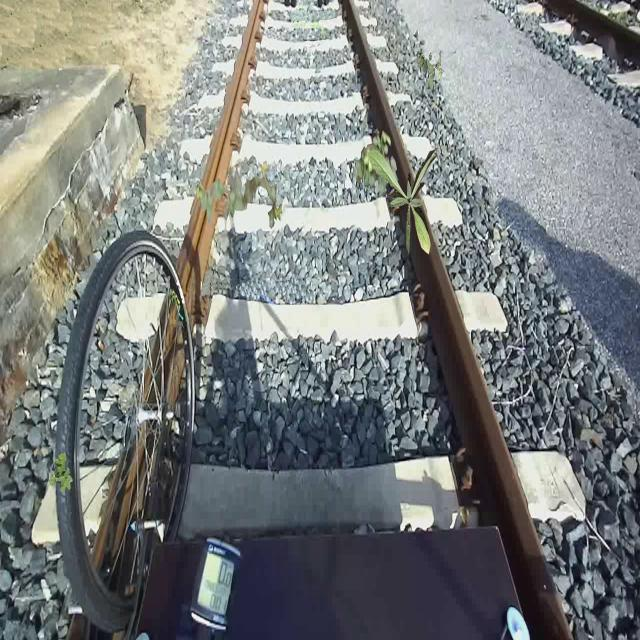Plant: (368, 148, 440, 256), (196, 161, 282, 230), (355, 130, 398, 196), (417, 49, 444, 90), (49, 453, 73, 494)
